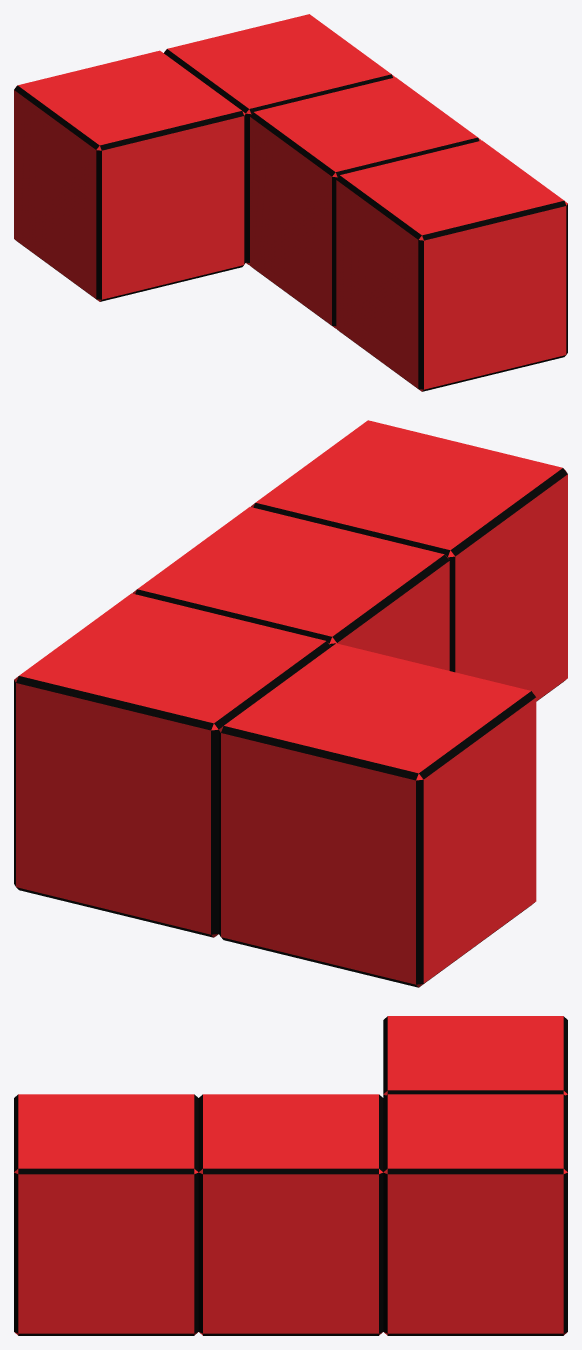
Rendered from tetromino4.fbx.
3 renders of one model, top to bottom at view 1: azimuth 30°, elevation 25°; view 2: azimuth 150°, elevation 25°; view 3: azimuth 270°, elevation 25°, orthographic. The views are drawn at different scales.
Visible parts, largest first — view 1: Cube.003; view 2: Cube.003; view 3: Cube.003.
Boxes of the visible parts, x1,y1,x2,y2 form: Cube.003: [14, 14, 567, 391]; Cube.003: [14, 420, 567, 987]; Cube.003: [14, 1016, 567, 1335].
Bounding box in the file's own units: 400 × 200 × 600.
